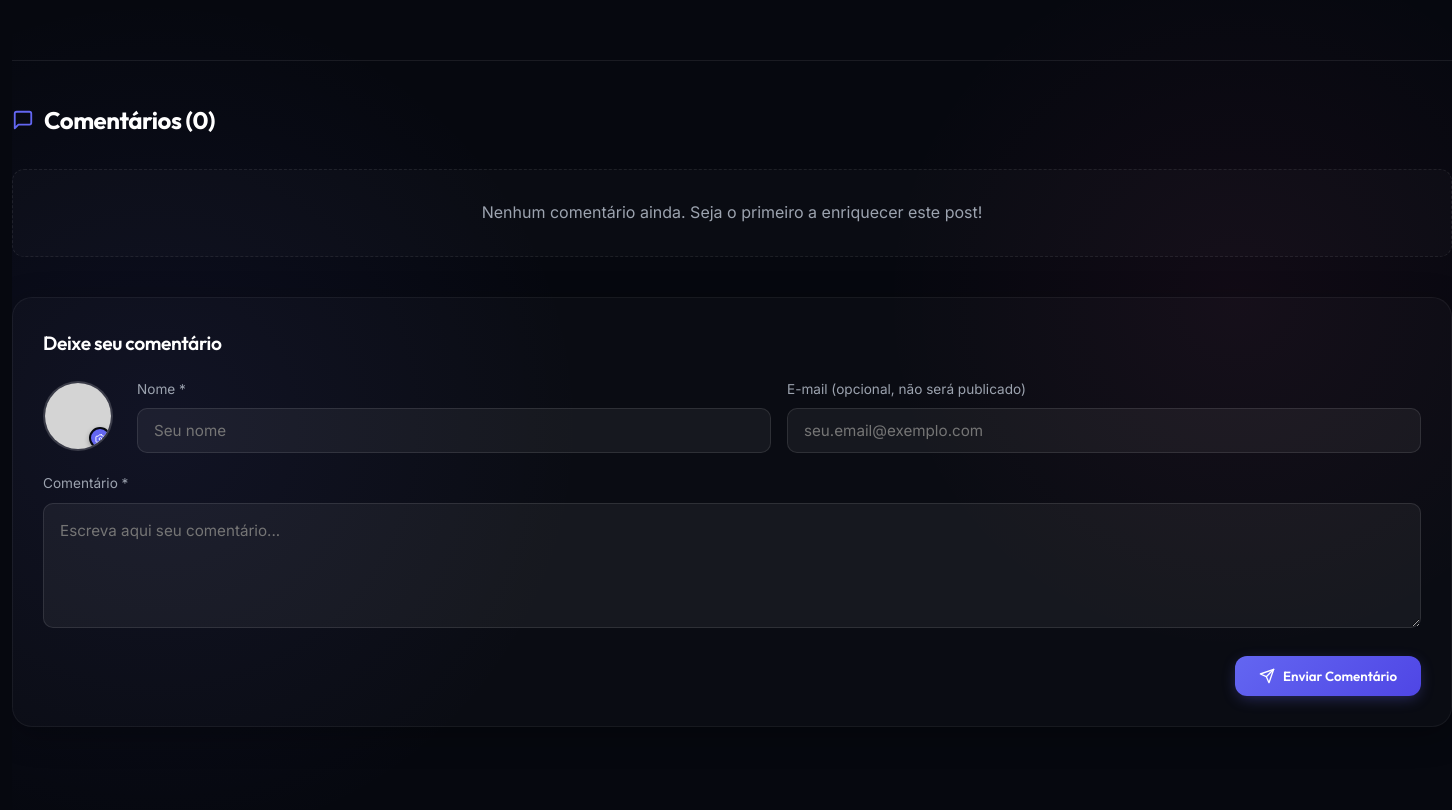
Test: CommentsSection Component › submits comment form successfully without avatar
Expected: the heading "Comentários (0)" is shown, [44,101,215,139]
Type "Lancelot" into the field labelled "Nome *" at (454, 431), box [137,408,771,454]
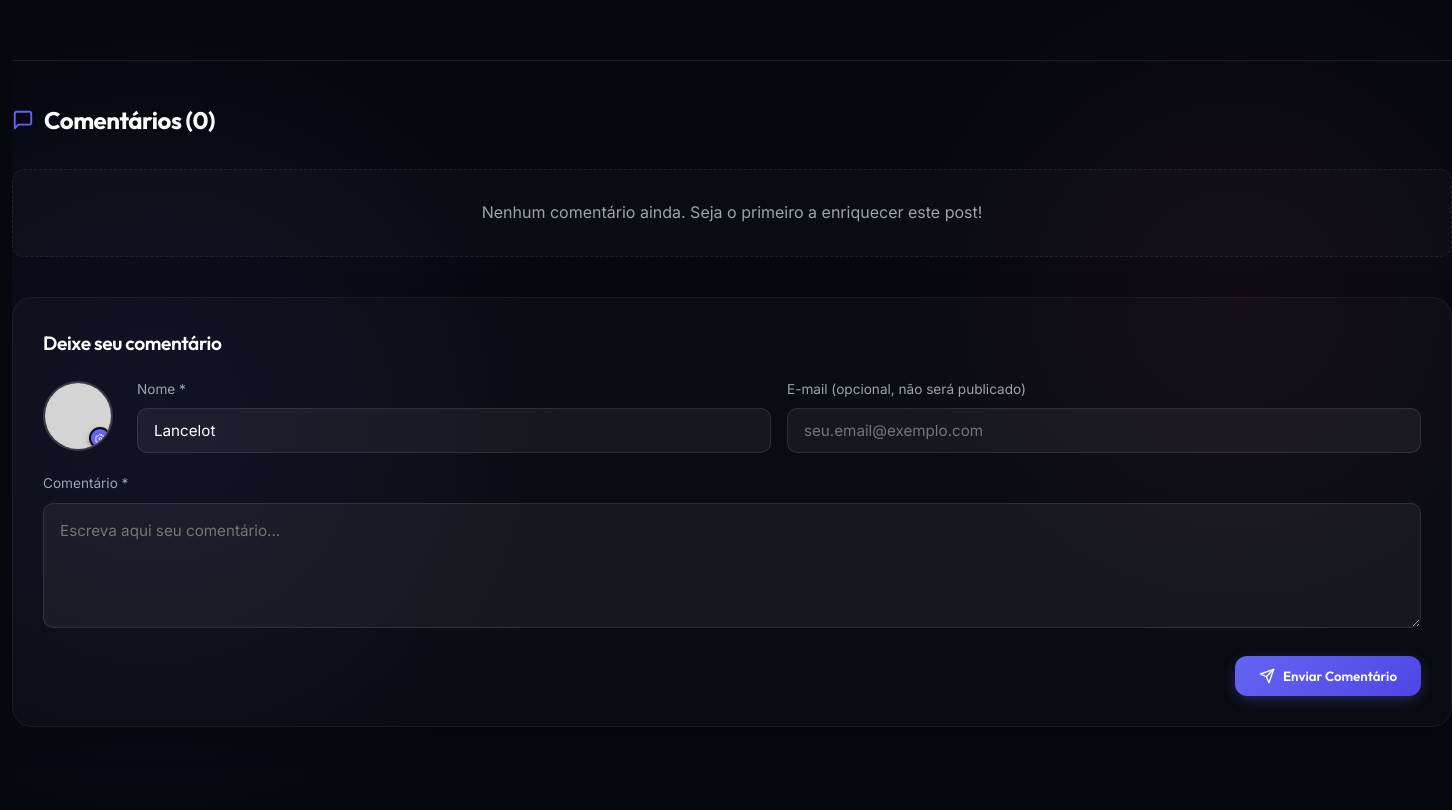
Type "lancelot@camelot.com" into the field labelled "E-mail (opcional, não será publicado)" at (1104, 431), box [787,408,1421,454]
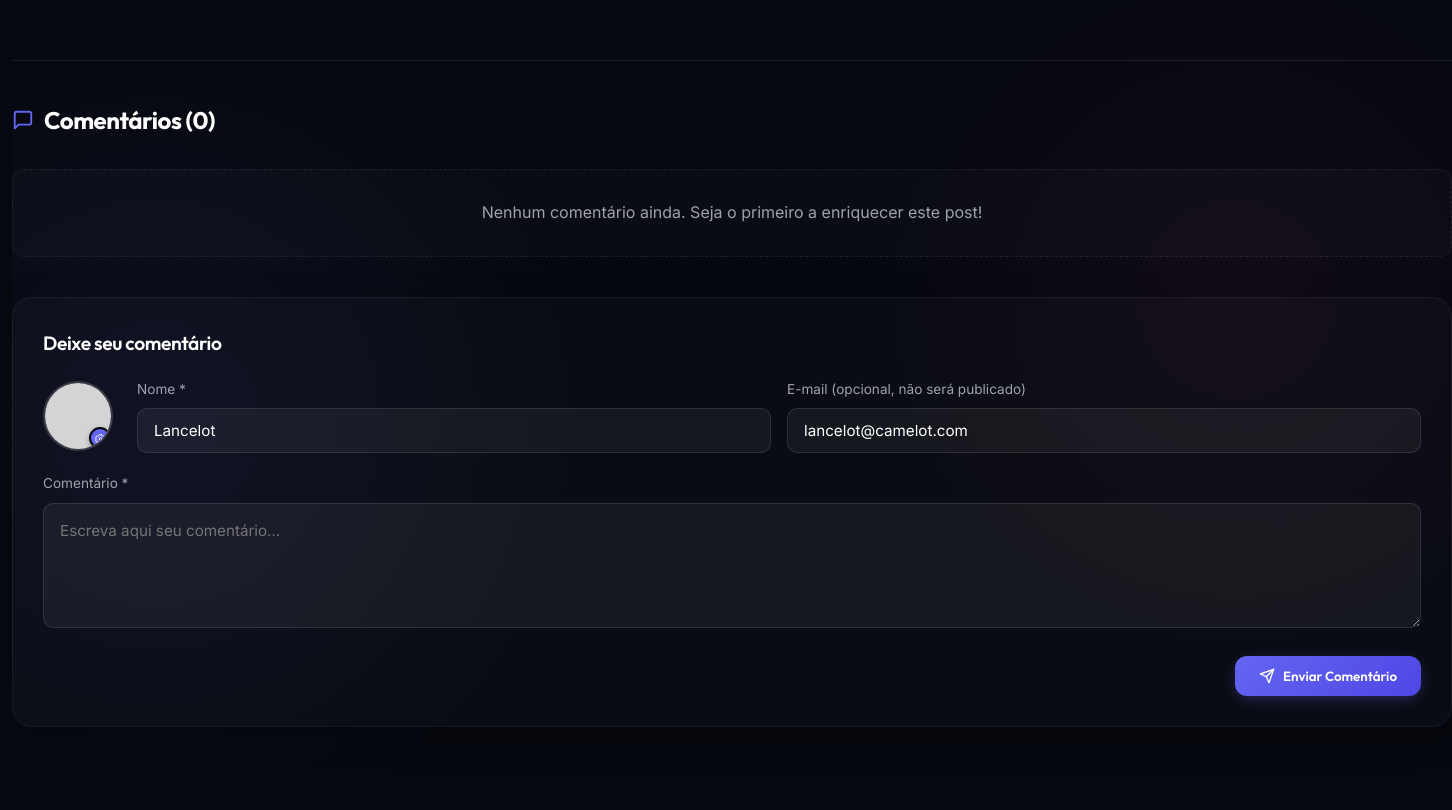
Type "Belo post." into the text box labelled "Comentário *" at (732, 566), box [43,503,1421,628]
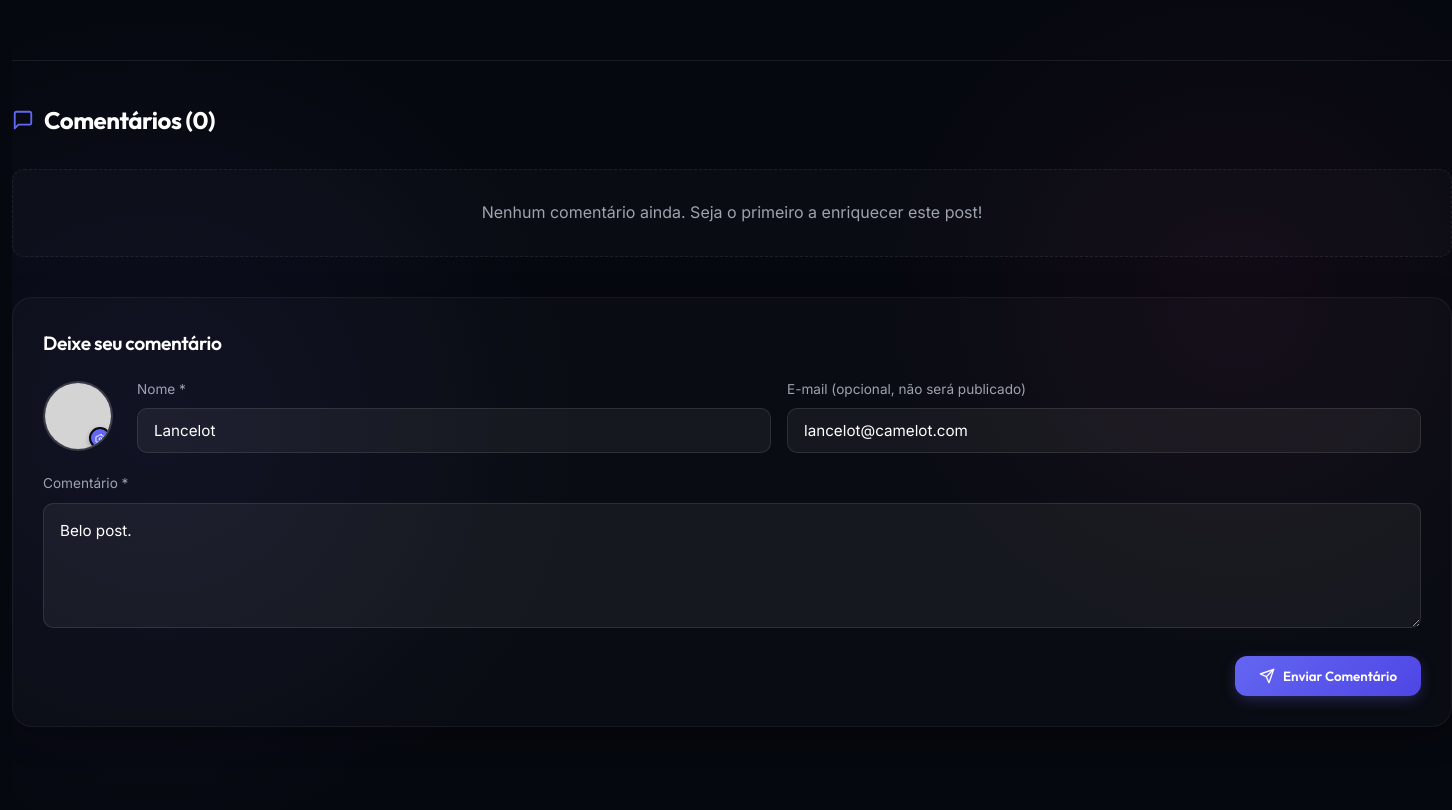
Click the button "Enviar Comentário" at (1328, 676), box [1235,656,1421,696]
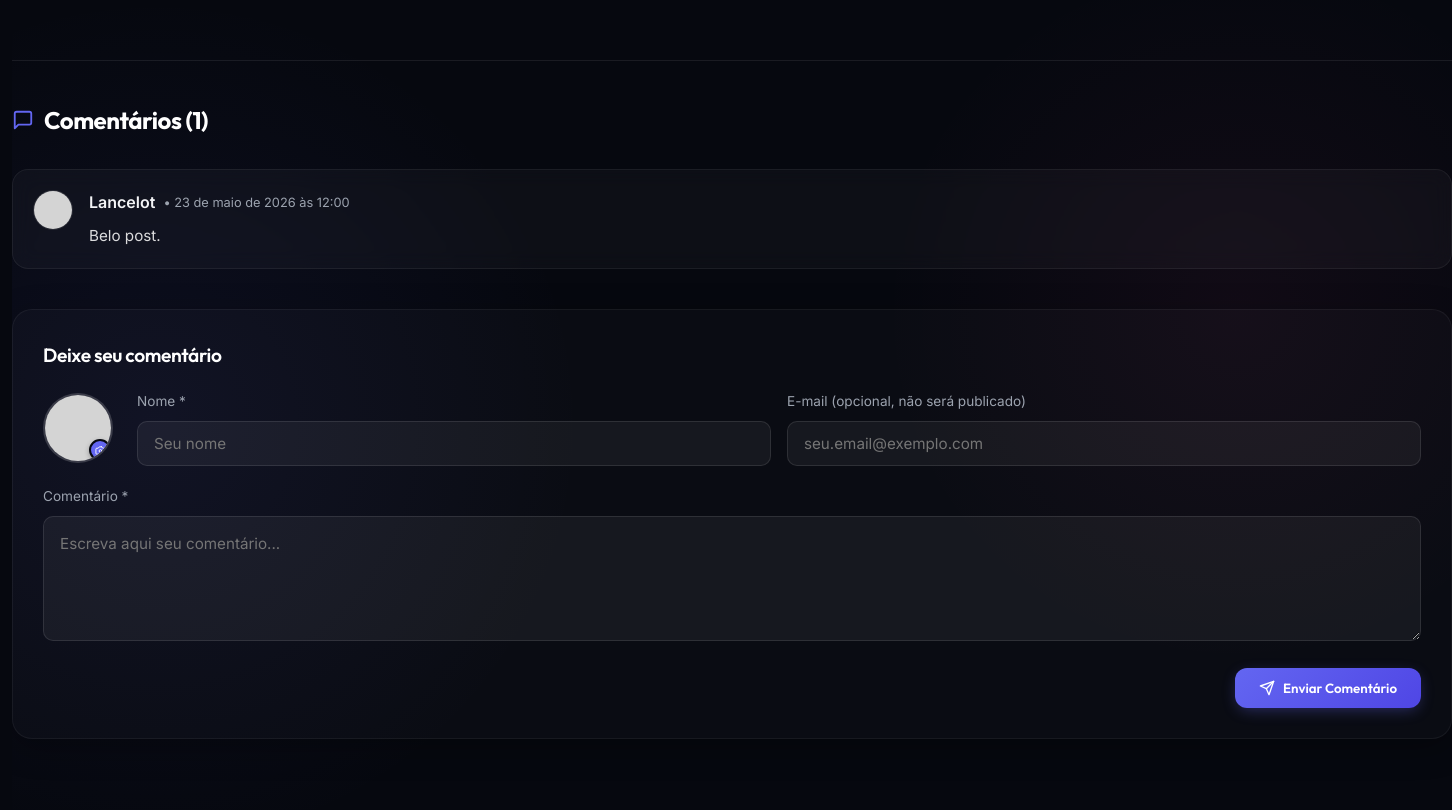
Expected: the heading "Comentários (1)" is shown, [44,101,208,139]
